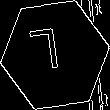L_S: (37, 28, 73, 82)
